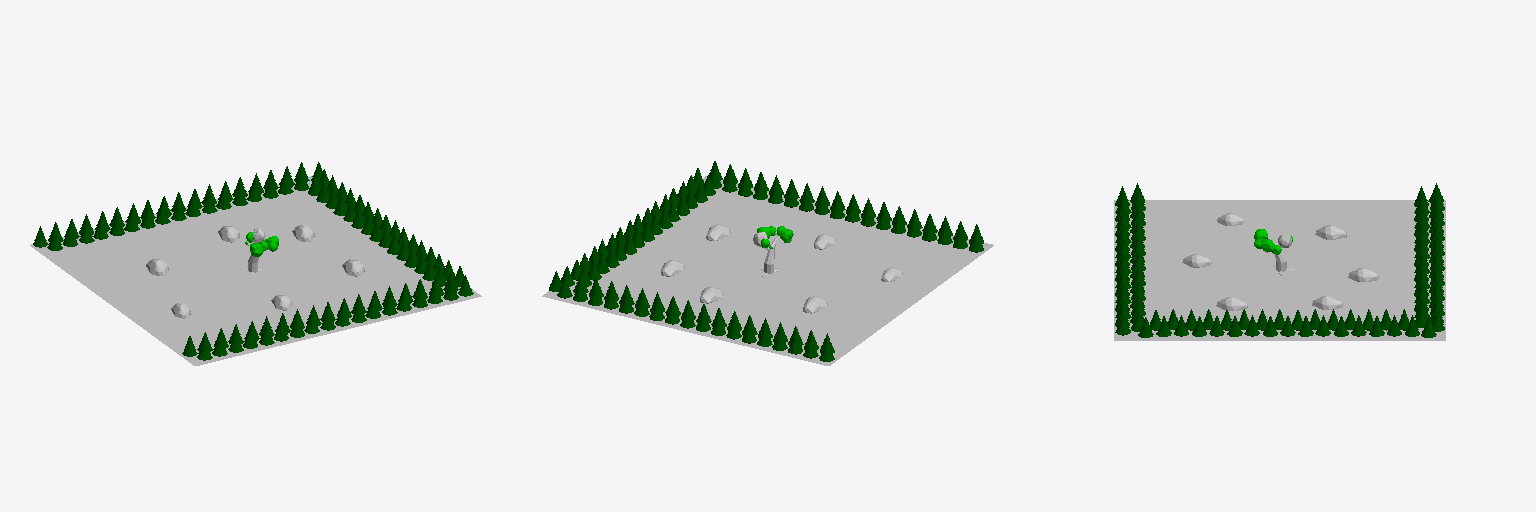
The model's file is mapa.obj.
3 renders of one model, left to right at view 1: azimuth 30°, elevation 25°; view 2: azimuth 150°, elevation 25°; view 3: azimuth 270°, elevation 25°, orthographic.
Parts seen in each view (by area): view 1: Plane; view 2: Plane; view 3: Plane.
Part boxes in pixels (bbox=[...]): Plane: bbox=[30, 176, 481, 365]; Plane: bbox=[542, 175, 993, 365]; Plane: bbox=[1114, 200, 1445, 340].
Bounding box in the file's own units: 100 × 16.07 × 100.